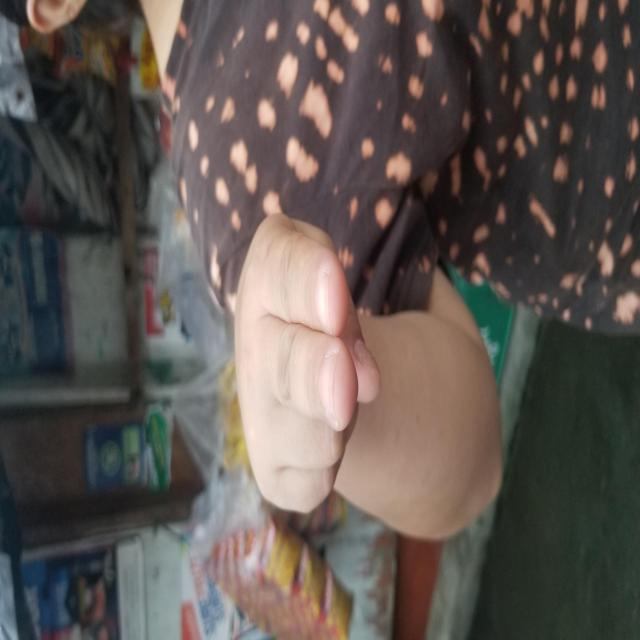N: (123, 233, 429, 383)
